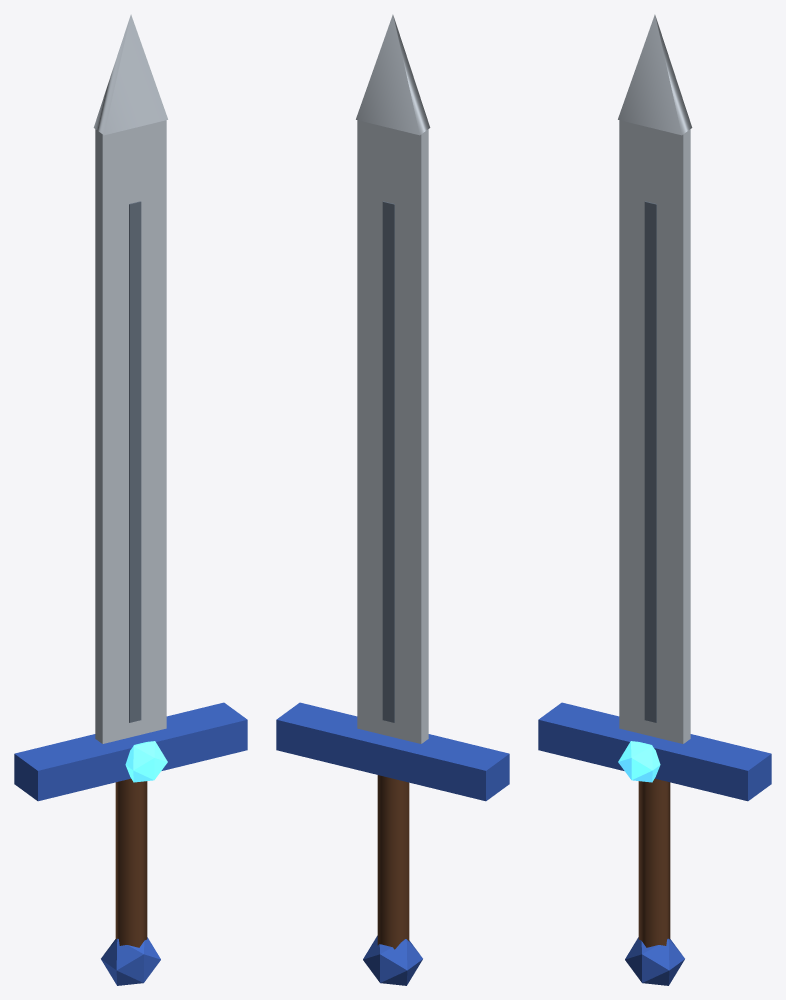
Rendered from weapon_greatsword_t2.glb.
3 renders of one model, left to right at view 1: azimuth 30°, elevation 25°; view 2: azimuth 150°, elevation 25°; view 3: azimuth 330°, elevation 25°, orthographic.
Visible parts, largest first — view 1: item_metal2, item_trim2, item_darkMetal2, item_leather2, item_gem2; view 2: item_metal2, item_trim2, item_darkMetal2, item_leather2; view 3: item_metal2, item_trim2, item_darkMetal2, item_leather2, item_gem2.
Part boxes in pixels (x1,y1,x2,y2): item_metal2: [93, 14, 167, 743]; item_trim2: [14, 702, 247, 985]; item_darkMetal2: [129, 201, 141, 722]; item_leather2: [115, 778, 147, 947]; item_gem2: [125, 741, 167, 782]; item_metal2: [356, 14, 430, 743]; item_trim2: [276, 702, 509, 985]; item_darkMetal2: [382, 201, 394, 722]; item_leather2: [377, 775, 409, 949]; item_metal2: [618, 14, 692, 743]; item_trim2: [538, 702, 771, 985]; item_darkMetal2: [644, 201, 656, 722]; item_leather2: [638, 778, 670, 947]; item_gem2: [618, 741, 660, 782].
Bounding box in the file's own units: 0.36 × 1.59 × 0.1081.
